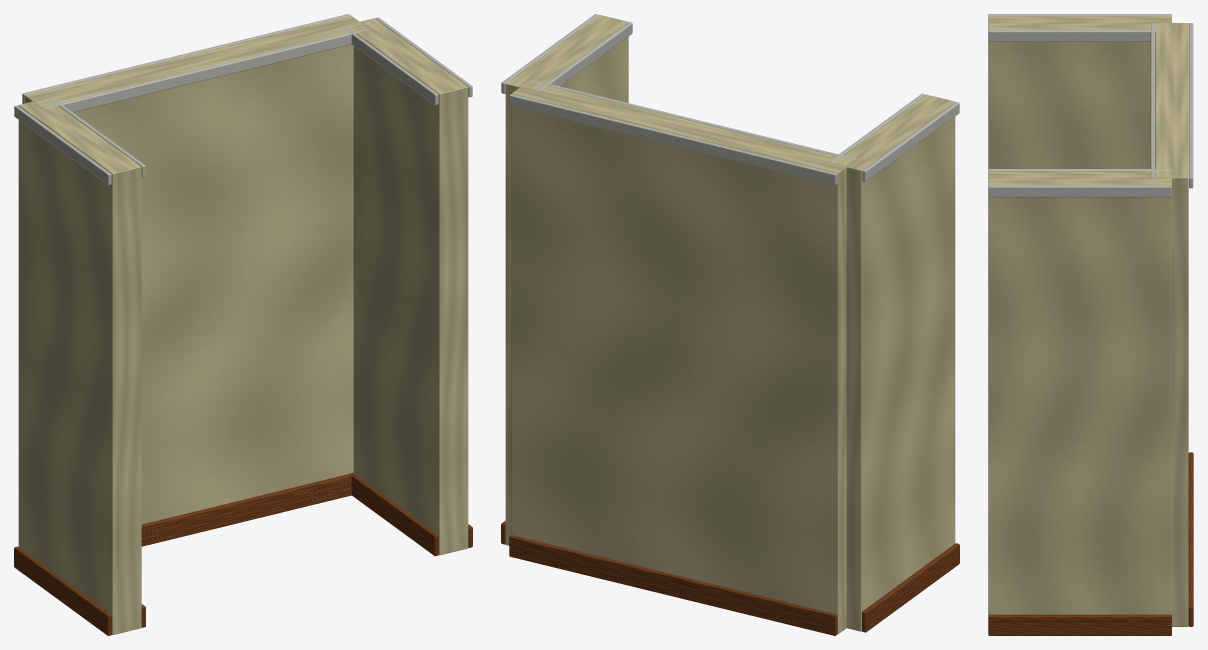
Rendered from three-d-liminal-spaces-kit-liminal-spaces-kit-wall-alcove-4e48debc.glb.
The picture shows the model from 3 angles, left to right: view 1: azimuth 30°, elevation 25°; view 2: azimuth 150°, elevation 25°; view 3: azimuth 270°, elevation 25°; orthographic projection. The views are drawn at different scales.
Visible parts, largest first — view 1: wall-alcove; view 2: wall-alcove; view 3: wall-alcove.
Boxes of the visible parts, <box> form: wall-alcove: <box>14,14,472,635</box>; wall-alcove: <box>501,14,959,635</box>; wall-alcove: <box>988,14,1193,635</box>.
Size of the model in its own units: 2.24 by 2.7 by 1.12.
3 materials, 3 textured.
